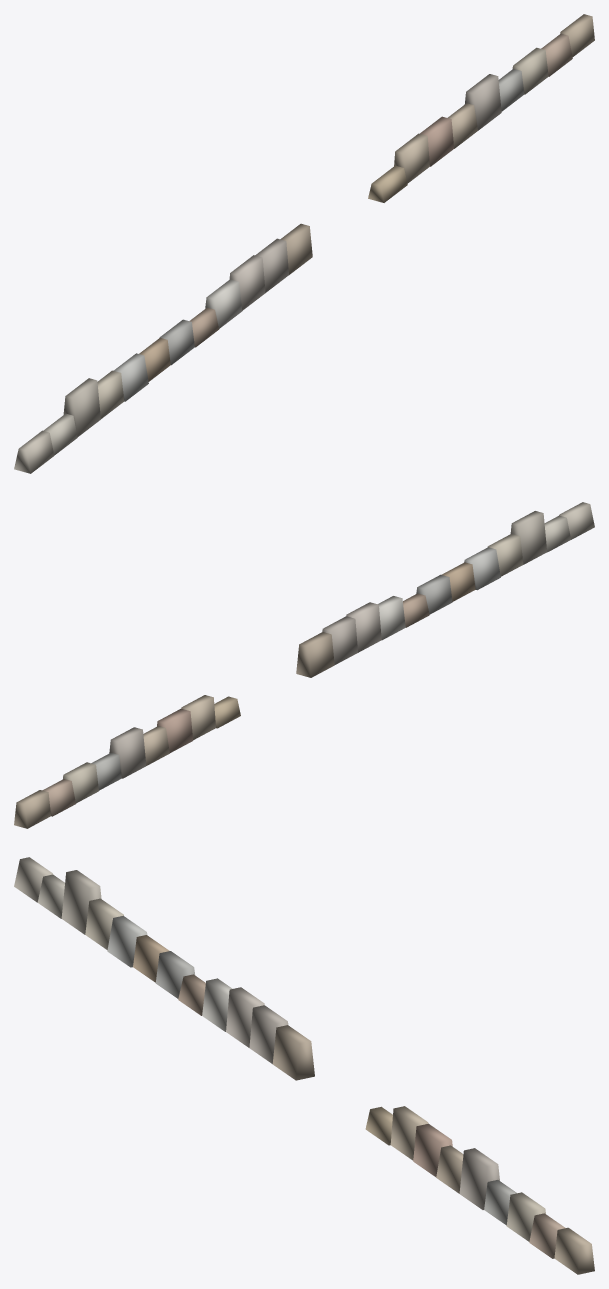
Rendered from farm_-33_-37_collision.glb.
3 views of the same model, one above another, from view 1: azimuth 30°, elevation 25°; view 2: azimuth 210°, elevation 25°; view 3: azimuth 270°, elevation 25° (orthographic). The views are drawn at different scales.
Parts seen in each view (by area): view 1: geometry_0; view 2: geometry_0; view 3: geometry_0.
Part boxes in pixels (<box>): geometry_0: <box>14,14,594,473</box>; geometry_0: <box>14,502,594,828</box>; geometry_0: <box>14,857,594,1274</box>.
Bounding box in the file's own units: 33.61 × 3.59 × 17.52.
